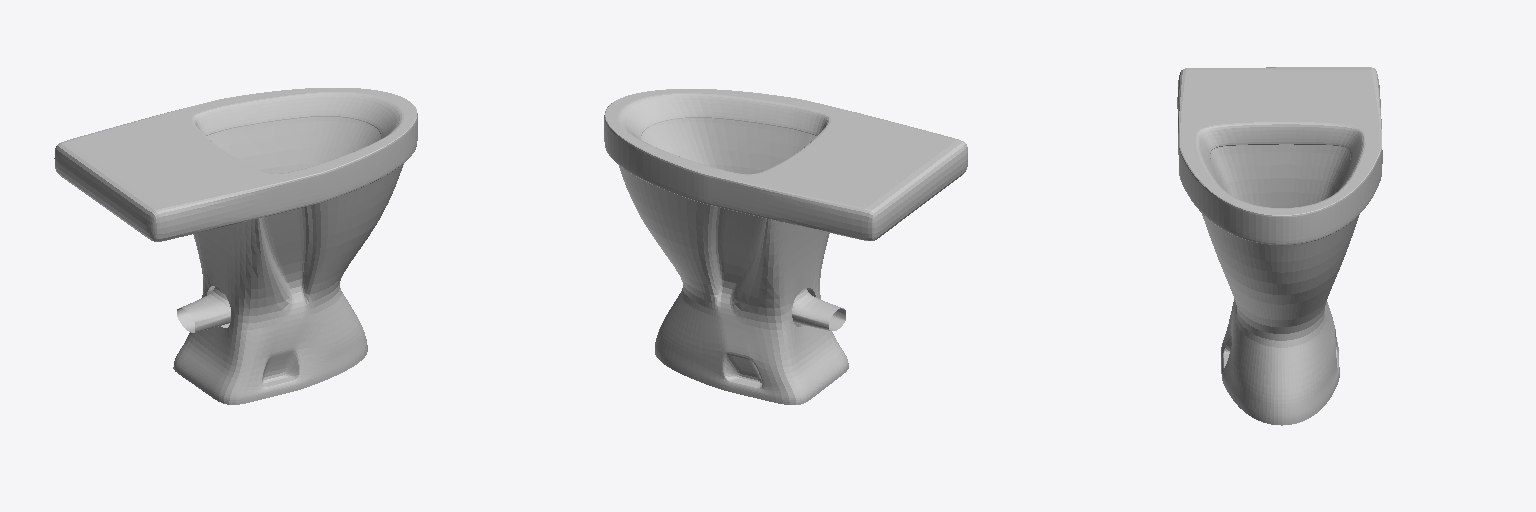
The model's file is pot_bowl.obj.
The picture shows the model from 3 angles: view 1: azimuth 30°, elevation 25°; view 2: azimuth 150°, elevation 25°; view 3: azimuth 270°, elevation 25°; orthographic projection.
Visible parts, largest first — view 1: Bowl; view 2: Bowl; view 3: Bowl.
Boxes of the visible parts, x1=… form: Bowl: x1=54, y1=88, x2=417, y2=404; Bowl: x1=604, y1=89, x2=967, y2=404; Bowl: x1=1177, y1=67, x2=1382, y2=425.
Size of the model in its own units: 153 by 109 by 87.29.